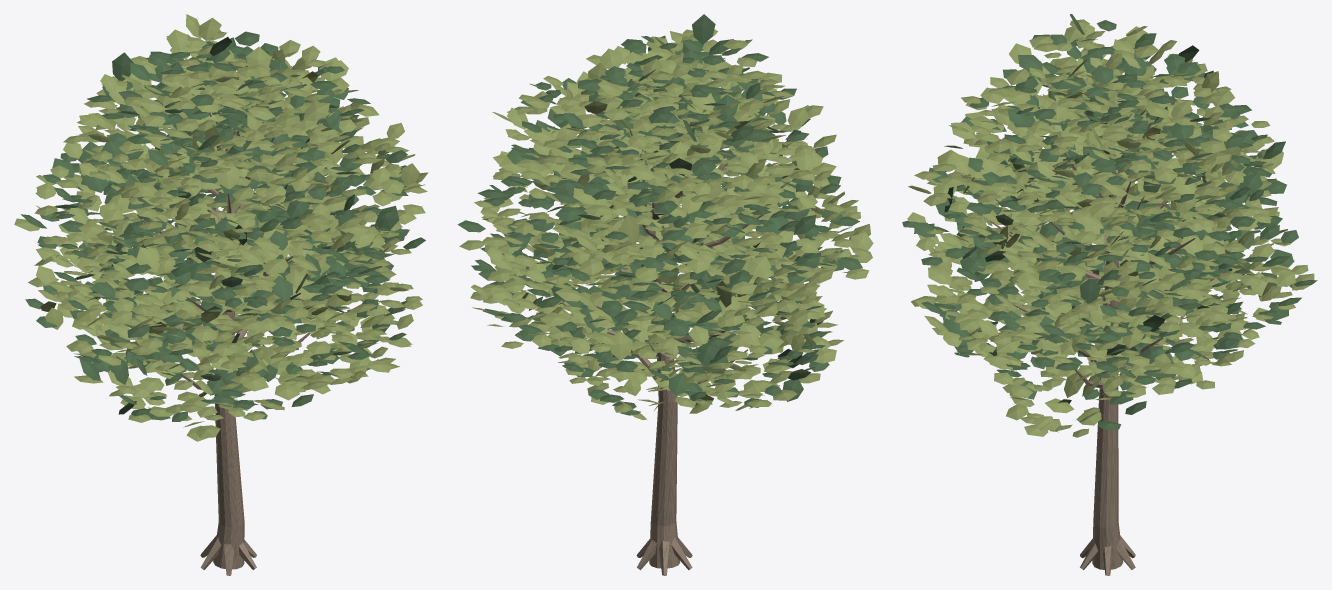
Rendered from Tree6.fbx.
3 views of the same model, side by side, from view 1: azimuth 30°, elevation 25°; view 2: azimuth 150°, elevation 25°; view 3: azimuth 270°, elevation 25° (orthographic).
Visible parts, largest first — view 1: Tree6_LOD0; view 2: Tree6_LOD0; view 3: Tree6_LOD0.
Boxes of the visible parts, x1,y1,x2,y2 form: Tree6_LOD0: (14, 14, 428, 575); Tree6_LOD0: (457, 14, 873, 575); Tree6_LOD0: (902, 14, 1317, 575).
Size of what is drawn, in the model's own units: 449 by 654 by 456.
Materials: 1 (1 with a texture image).
